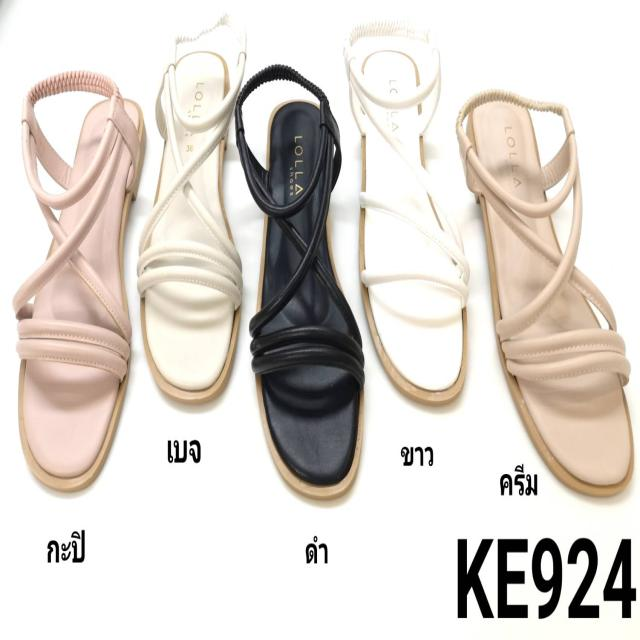bej: (143, 52, 243, 397)
black: (252, 106, 361, 494)
cream: (468, 76, 630, 481)
kapi: (23, 76, 138, 488)
white: (355, 44, 469, 401)
